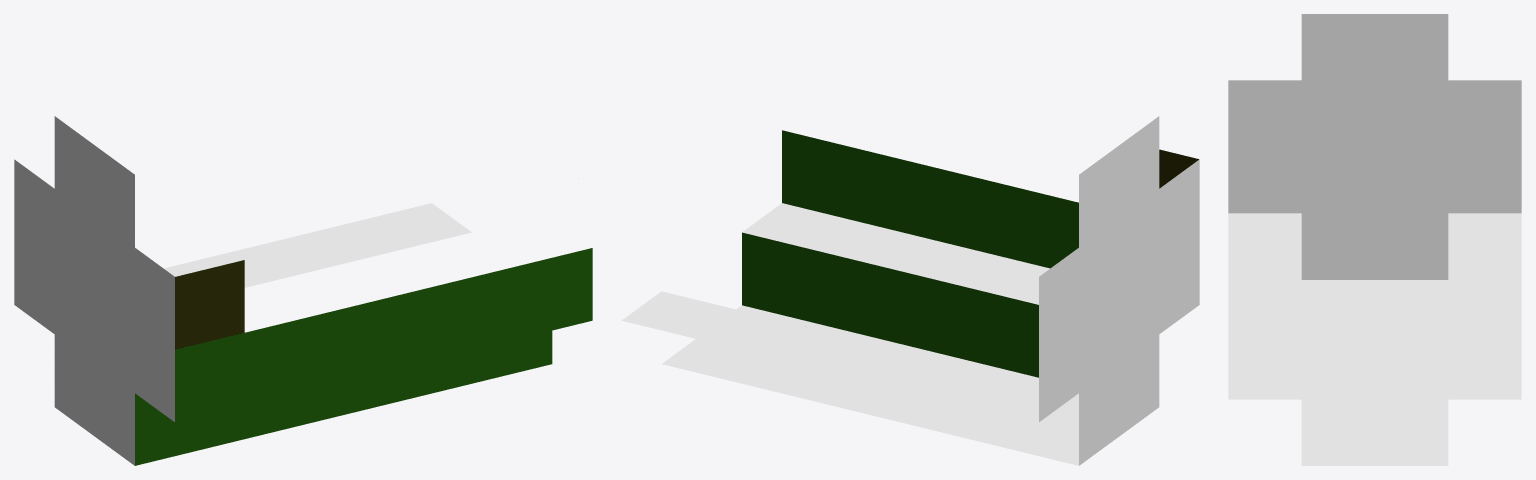
The model's file is block_39.fbx.
3 views of the same model, side by side, from view 1: azimuth 30°, elevation 25°; view 2: azimuth 150°, elevation 25°; view 3: azimuth 270°, elevation 25° (orthographic). The views are drawn at different scales.
Visible parts, largest first — view 1: Box; view 2: Box; view 3: Box.
Part boxes in pixels (left/top/right/bottom): Box: left=14, top=116, right=592, bottom=465; Box: left=622, top=116, right=1199, bottom=465; Box: left=1228, top=14, right=1521, bottom=465.
Bounding box in the file's own units: 6 × 4 × 4.
1 material, 1 textured.
